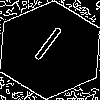I: (25, 25, 66, 71)
